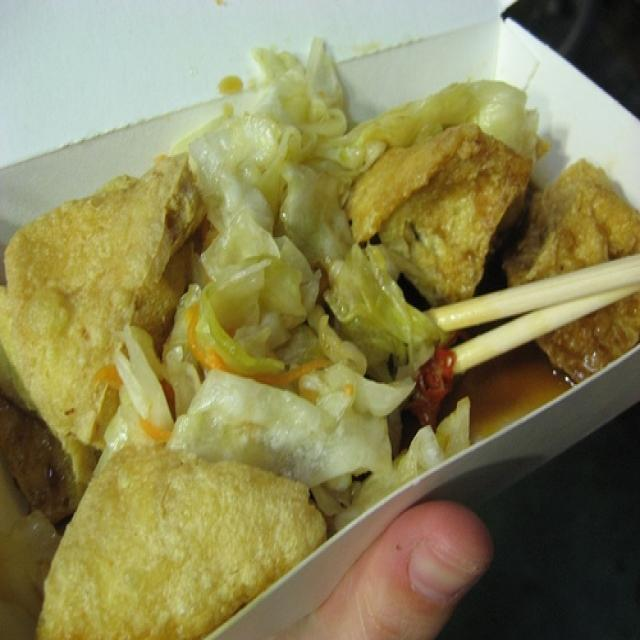豆腐料理: (0, 12, 634, 623)
